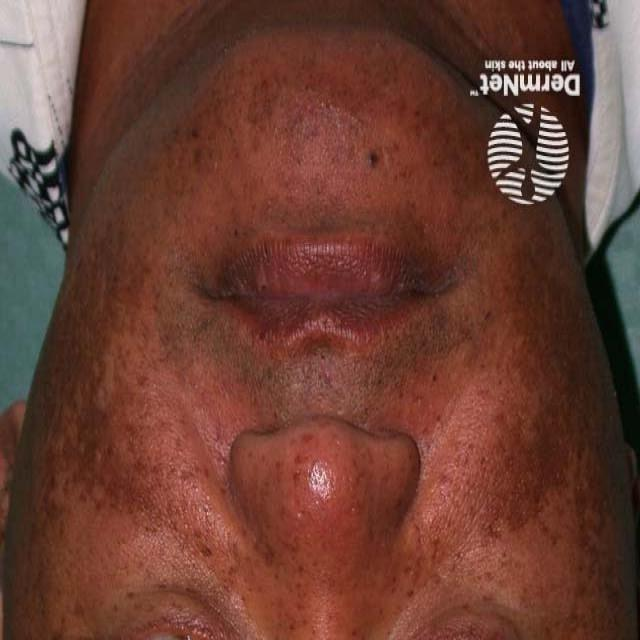Melasma: (63, 43, 576, 640)
